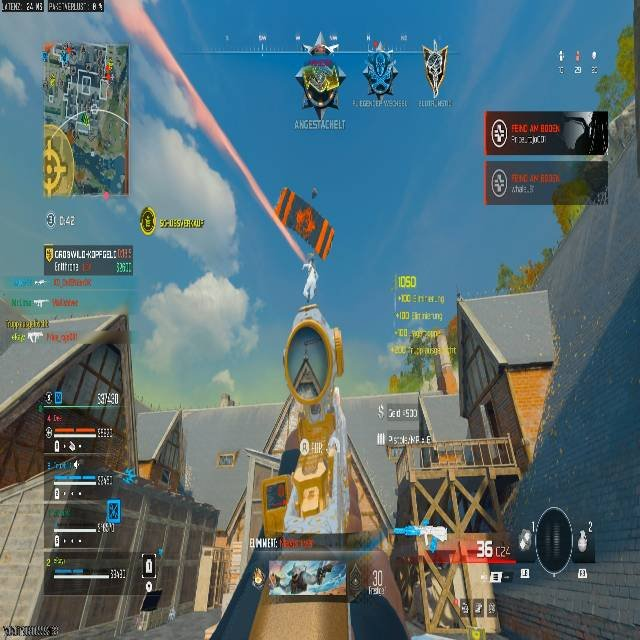head: (374, 52, 387, 68)
player: (362, 54, 398, 97)
